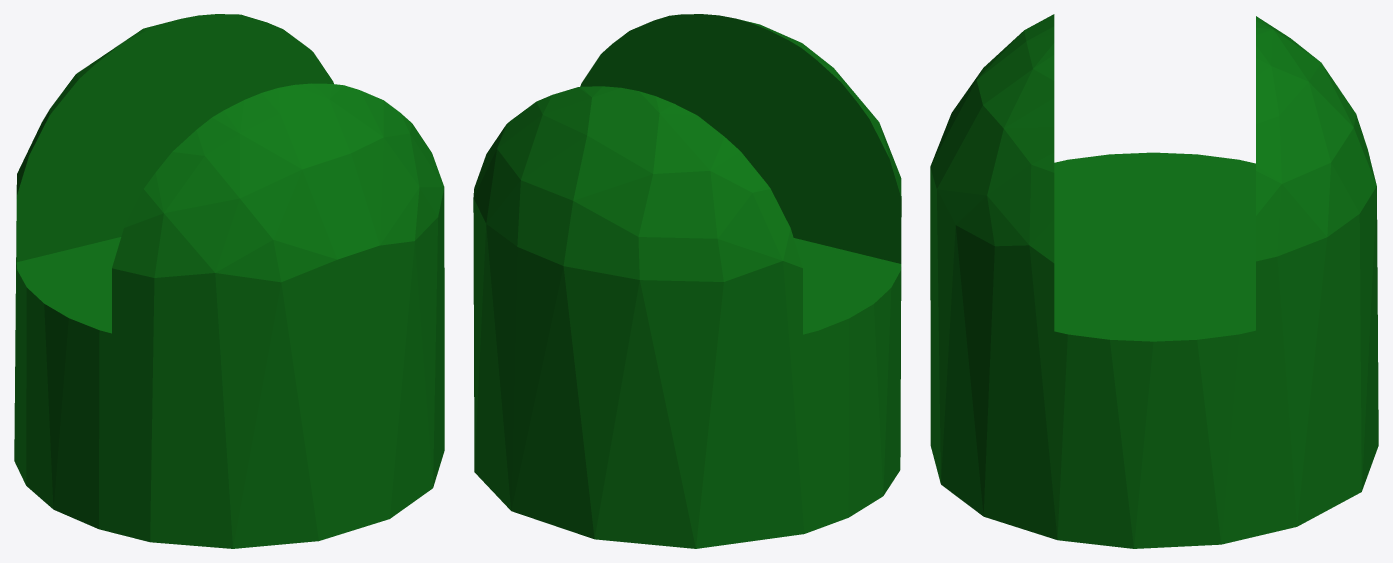
Rendered from Basis.fbx.
3 renders of one model, left to right at view 1: azimuth 30°, elevation 25°; view 2: azimuth 150°, elevation 25°; view 3: azimuth 270°, elevation 25°, orthographic. The views are drawn at different scales.
Parts seen in each view (by area): view 1: Sphere; view 2: Sphere; view 3: Sphere.
Part boxes in pixels (box(x1,y1,x2,y2)): Sphere: box(14, 14, 444, 548); Sphere: box(473, 14, 901, 548); Sphere: box(930, 14, 1378, 548).
Size of the model in its own units: 3.71 by 3.87 by 3.71.
